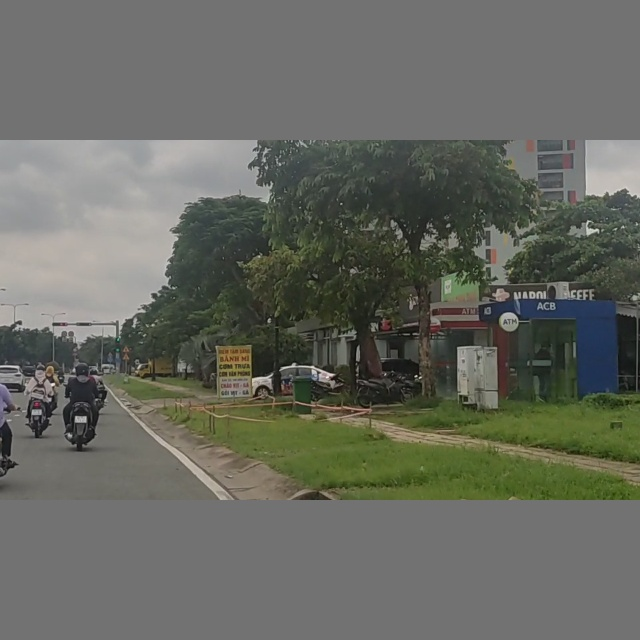W.207: (121, 345, 131, 353)
W.224: (121, 353, 131, 360)
